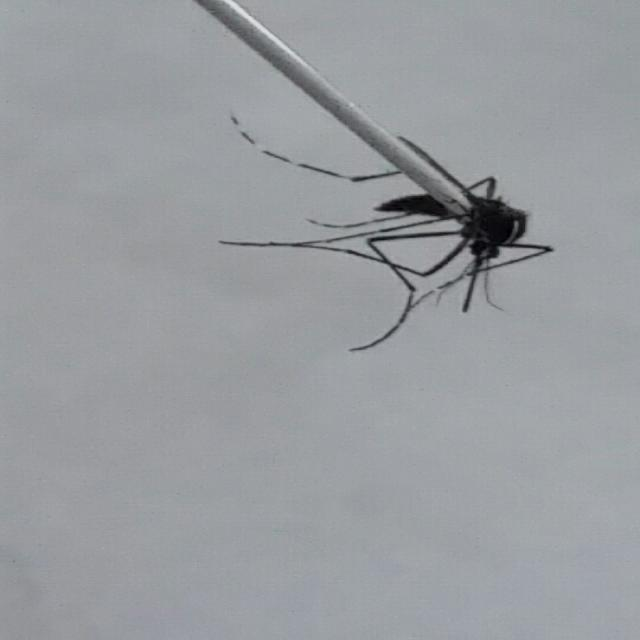albopictus: (191, 58, 574, 355)
